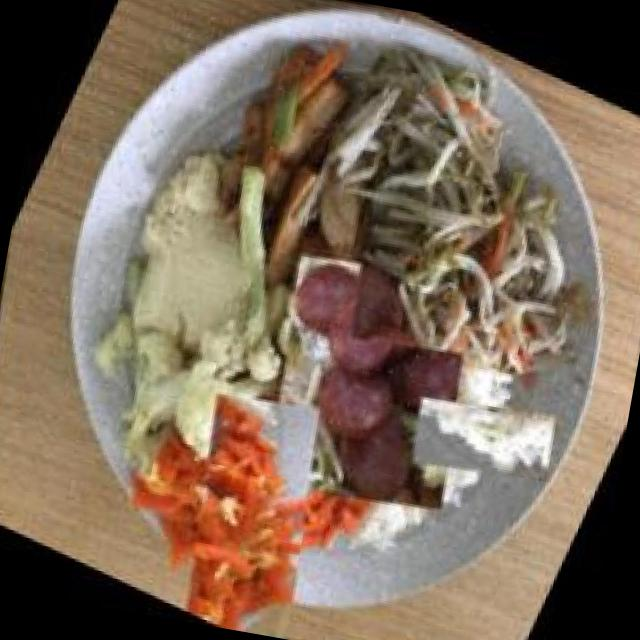carrot_eggs: (99, 365, 407, 640)
chinese_sausage: (194, 196, 546, 571)
mung_bean_sprouts: (259, 0, 640, 435)
rice: (394, 350, 574, 530)
